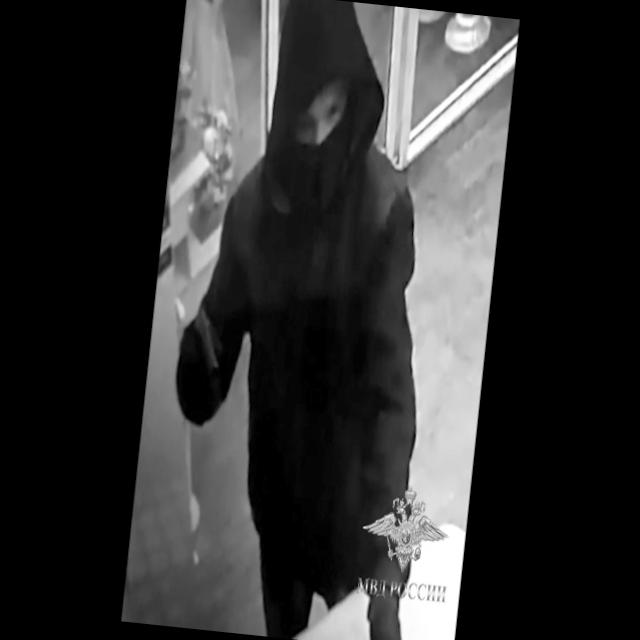gun: (183, 298, 230, 426)
person with a gun: (149, 0, 470, 640)
